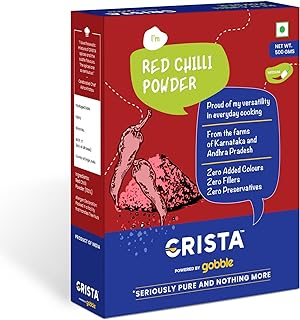Chilli Powder: (70, 3, 300, 318)
